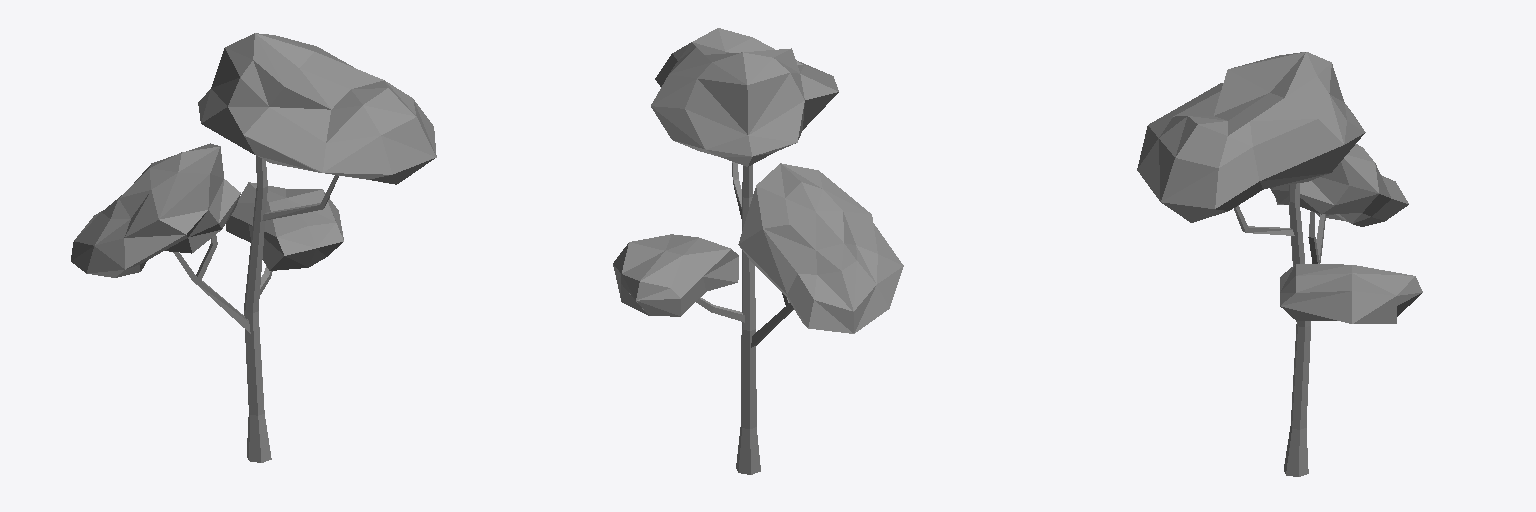
Rendered from tree_06.obj.
The picture shows the model from 3 angles: view 1: azimuth 30°, elevation 25°; view 2: azimuth 150°, elevation 25°; view 3: azimuth 270°, elevation 25°; orthographic projection.
Bounding box in the file's own units: 3.56 × 4.92 × 3.03.